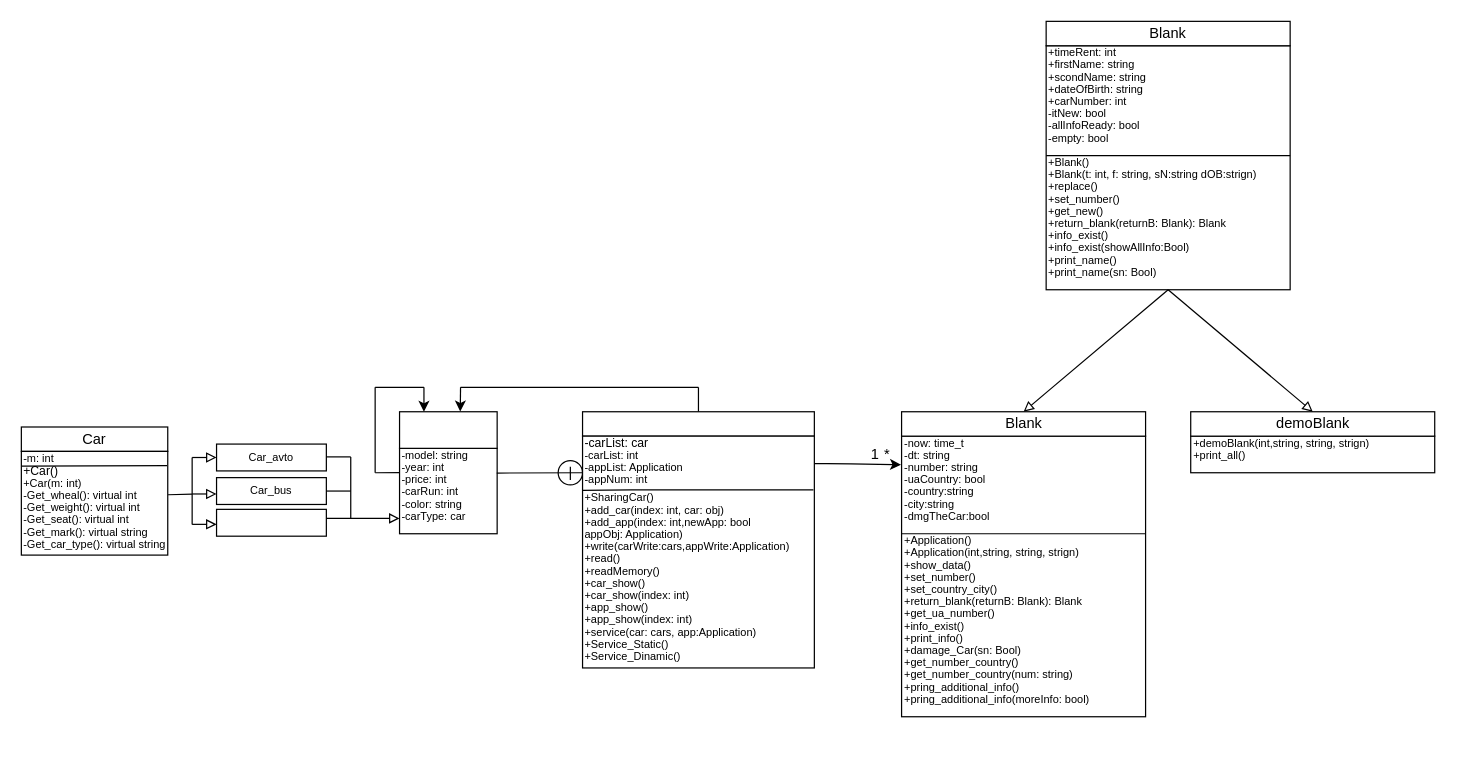
Image size: 1457x775. Some labels were removed from this diagram. Each missing label, with the box of its shape:
Car_truck: (215, 508, 326, 536)
SharingCar: (581, 411, 814, 436)
struct car: (398, 411, 497, 448)
